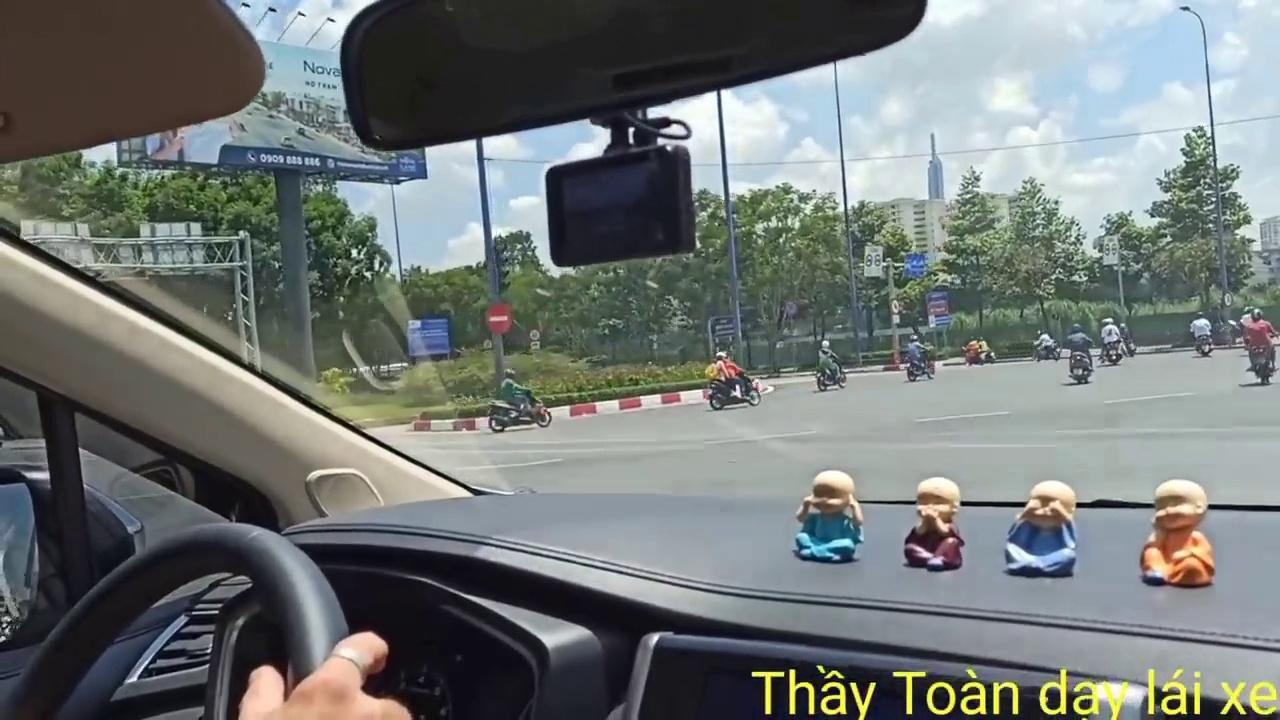Cấm cac phương tiện hoạt động trong khung giờ cố định: (862, 244, 883, 278)
Cấm đi ngược chiều: (484, 301, 516, 335)
Khác: (406, 318, 452, 357), (926, 289, 953, 328)
Làn đường cho từng xe: (902, 252, 927, 278)
